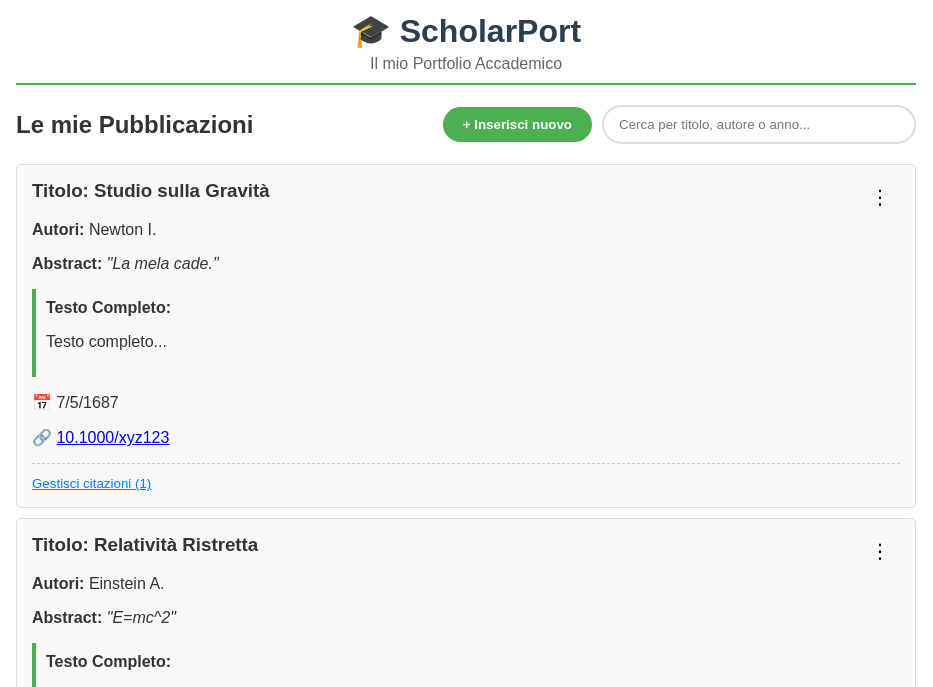
Test: ScholarPort Functional Tests › 6. Gestione Citazioni › Espande la sezione citazioni quando cliccato
Expected: the heading "Titolo: Studio sulla Gravità" is shown, [32, 180, 270, 201]
What coordinates should you click on to do the following:
click the button "Gestisci citazioni (1)"
I would click on:
 (92, 484)
Its box is [32, 476, 151, 491].
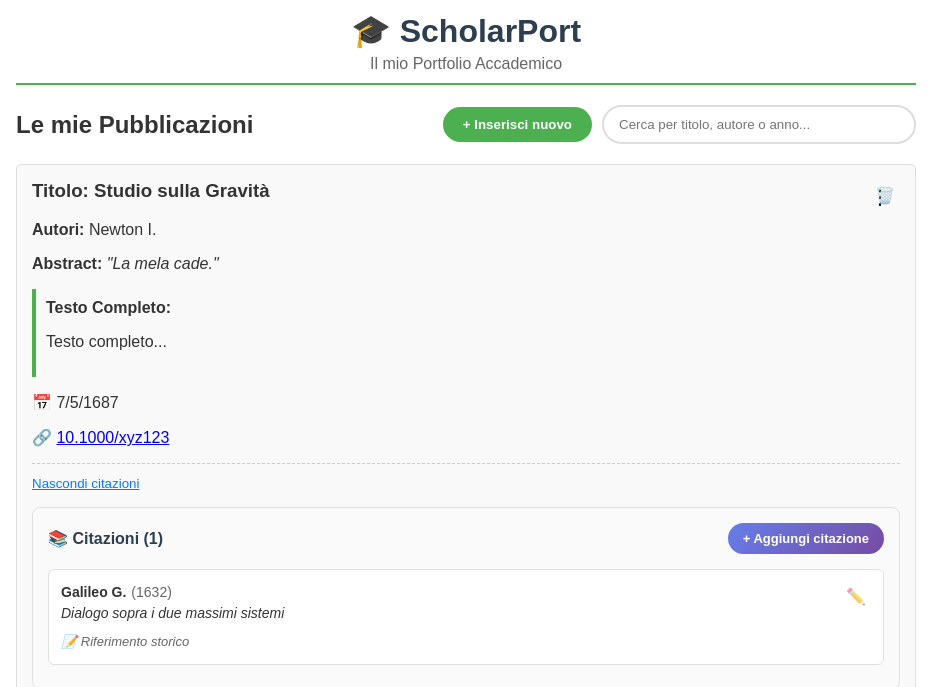
Expected: the heading "📚 Citazioni (1)" is shown, [48, 529, 163, 548]
Expected: the button "+ Aggiungi citazione" is shown, [728, 523, 884, 554]
